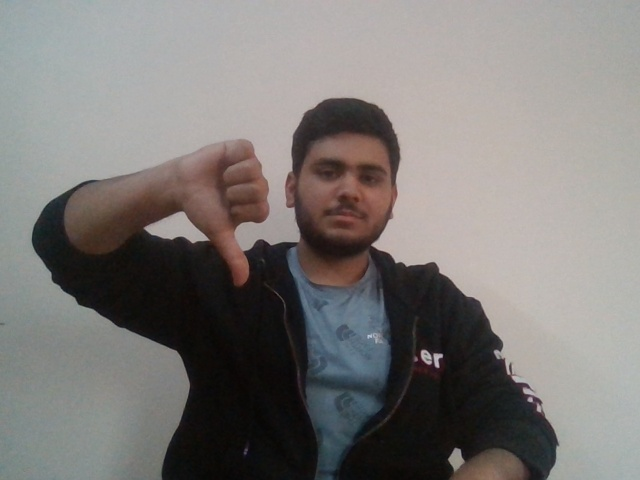No: (171, 131, 282, 291)
